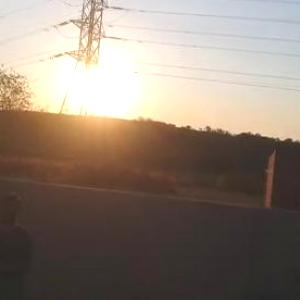follow: (0, 186, 35, 299)
